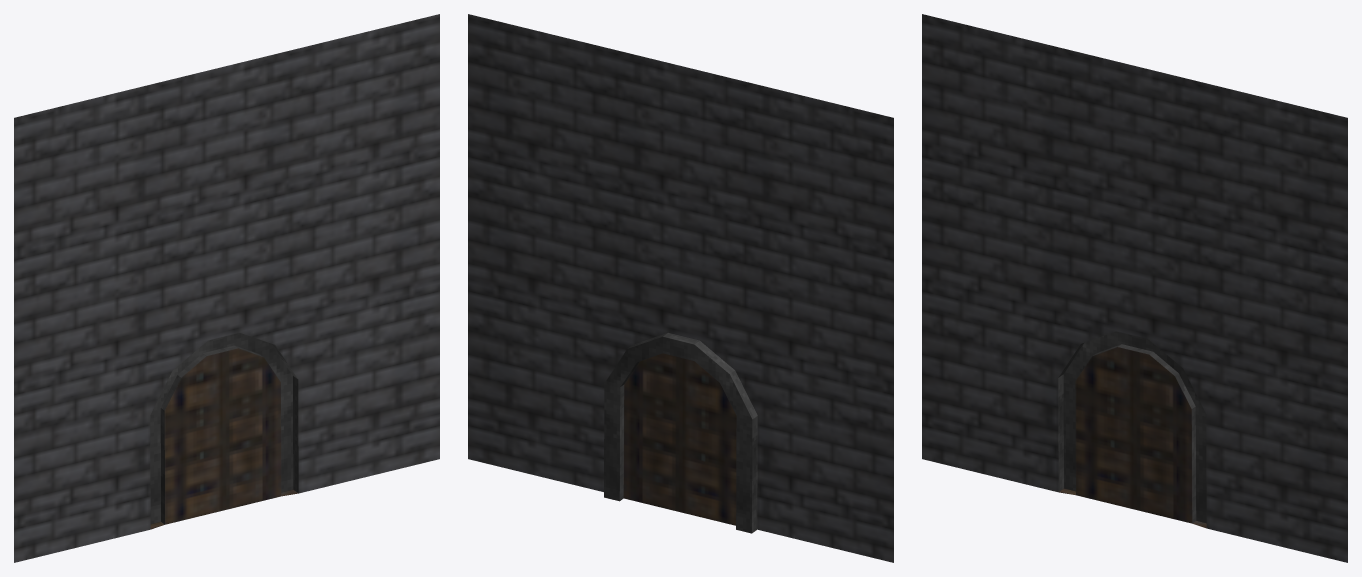
File: Entrance.fbx
The picture shows the model from 3 angles, left to right: view 1: azimuth 30°, elevation 25°; view 2: azimuth 150°, elevation 25°; view 3: azimuth 330°, elevation 25°; orthographic projection.
Visible parts, largest first — view 1: Entrance; view 2: Entrance; view 3: Entrance.
Part boxes in pixels (x1,y1,x2,y2): Entrance: [14, 14, 439, 562]; Entrance: [468, 14, 893, 562]; Entrance: [922, 14, 1347, 562].
Size of the model in its own units: 649 by 648 by 14.19.
1 material, 1 textured.
